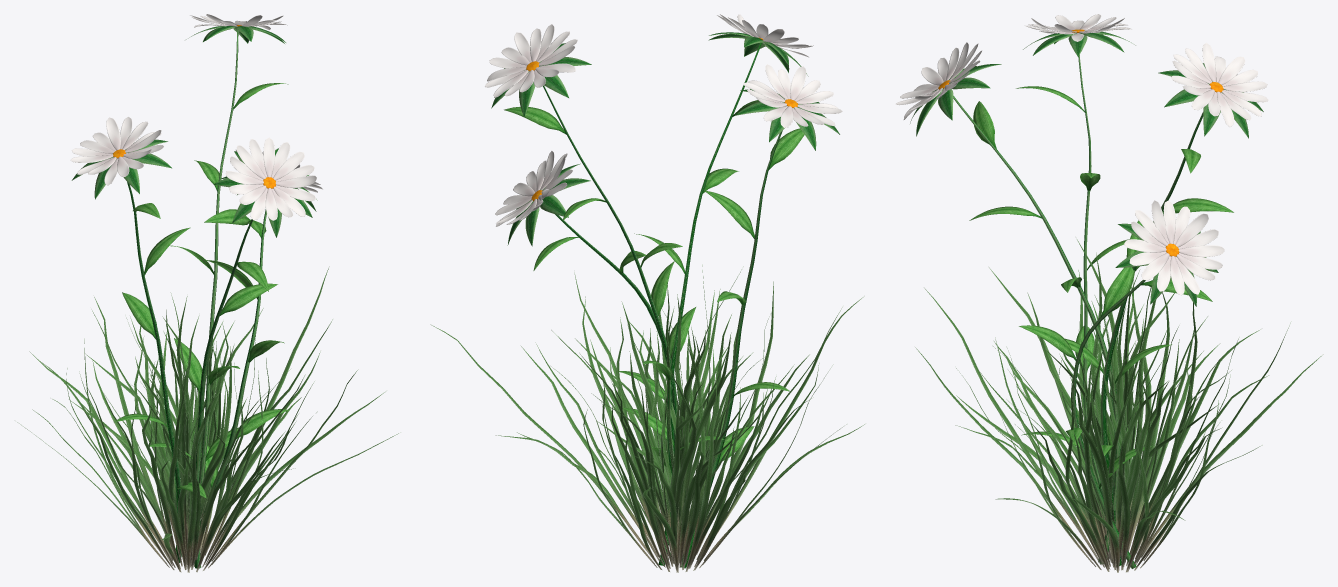
The model's file is white flower.fbx.
3 renders of one model, left to right at view 1: azimuth 30°, elevation 25°; view 2: azimuth 150°, elevation 25°; view 3: azimuth 270°, elevation 25°, orthographic. The views are drawn at different scales.
Visible parts, largest first — view 1: longe_grass, white_flower; view 2: longe_grass, white_flower; view 3: longe_grass, white_flower.
Part boxes in pixels (<box>): longe_grass: <box>17,266,400,572</box>; white_flower: <box>70,14,322,568</box>; longe_grass: <box>430,264,864,572</box>; white_flower: <box>485,14,842,568</box>; longe_grass: <box>915,239,1323,572</box>; white_flower: <box>896,14,1268,568</box>.
Size of the model in its own units: 59.98 by 81.64 by 57.29.
Materials: 5 (5 with a texture image).
